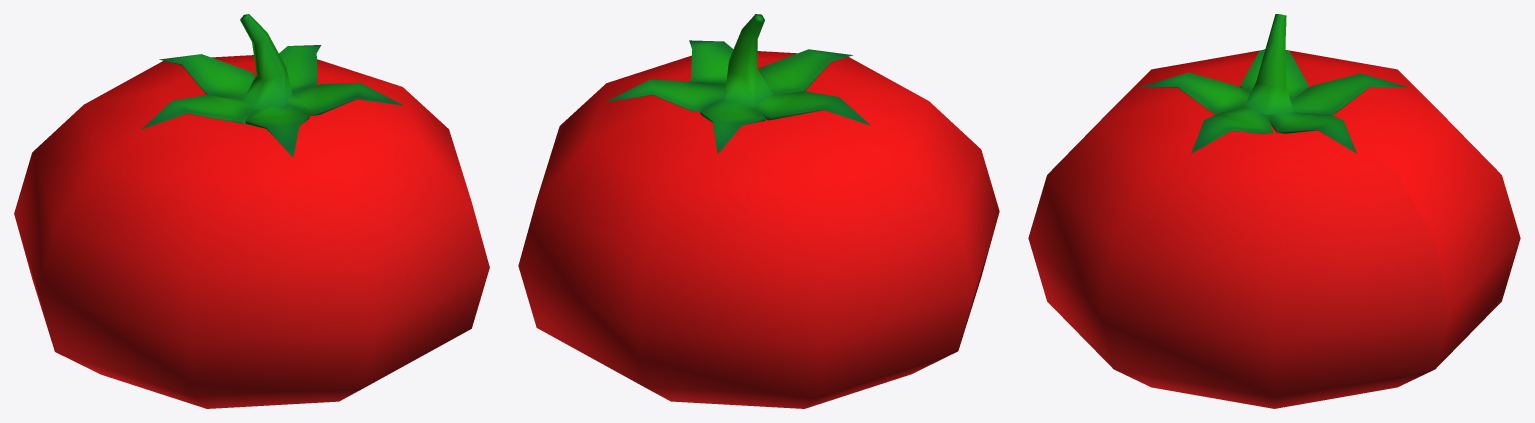
Rendered from Tomato.obj.
3 renders of one model, left to right at view 1: azimuth 30°, elevation 25°; view 2: azimuth 150°, elevation 25°; view 3: azimuth 270°, elevation 25°, orthographic.
Visible parts, largest first — view 1: Tomato; view 2: Tomato; view 3: Tomato.
Boxes of the visible parts, x1,y1,x2,y2 form: Tomato: (14, 14, 489, 408); Tomato: (518, 14, 999, 408); Tomato: (1028, 14, 1520, 408).
Size of the model in its own units: 2 by 1.5 by 2.
1 material, 1 textured.
